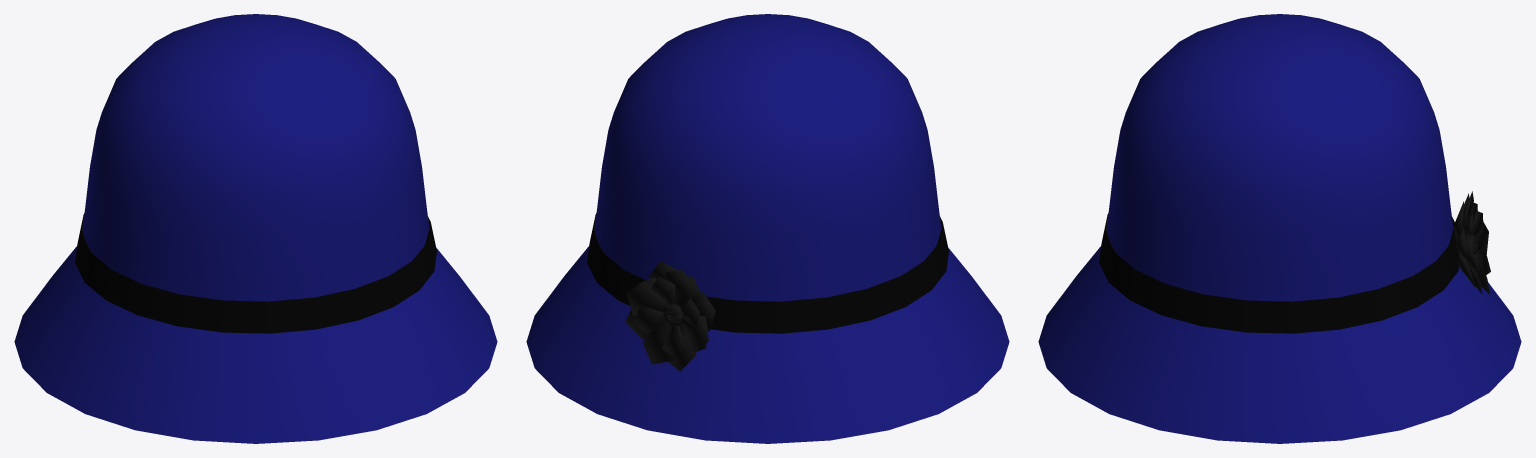
The model's file is Wear_Cloche.glb.
3 views of the same model, side by side, from view 1: azimuth 30°, elevation 25°; view 2: azimuth 150°, elevation 25°; view 3: azimuth 270°, elevation 25° (orthographic).
Visible parts, largest first — view 1: cloche_hat; view 2: cloche_hat; view 3: cloche_hat.
Boxes of the visible parts, x1=… form: cloche_hat: x1=14, y1=14, x2=497, y2=443; cloche_hat: x1=526, y1=14, x2=1009, y2=443; cloche_hat: x1=1038, y1=14, x2=1521, y2=443.
Bounding box in the file's own units: 26.78 × 18.92 × 26.78.
